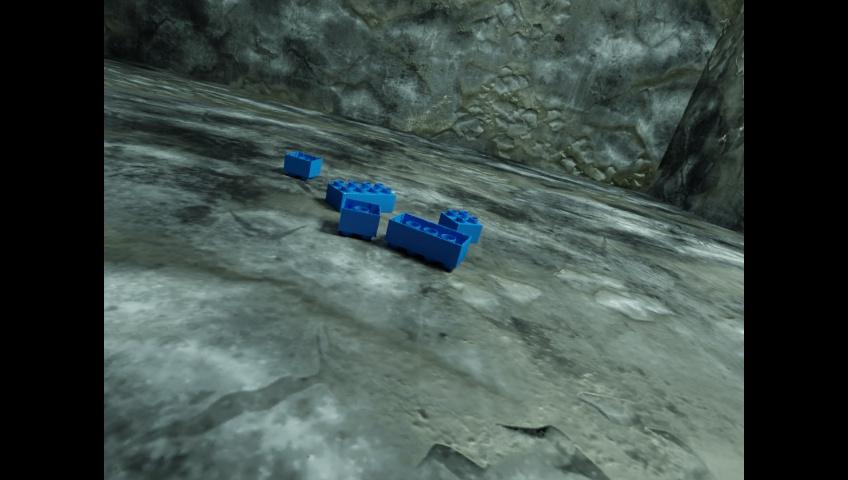2x2_blue: (338, 197, 379, 239), (437, 208, 482, 242), (284, 152, 322, 180)
4x2_blue: (384, 212, 470, 269), (325, 179, 395, 212)
